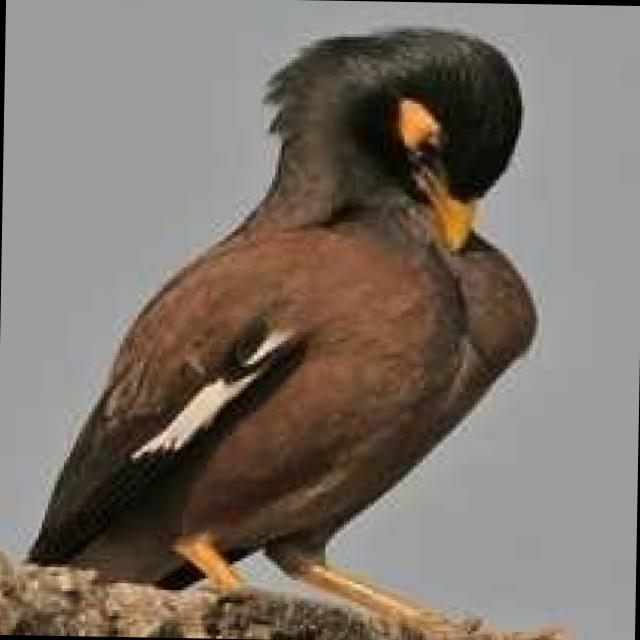bird: (21, 7, 555, 640)
